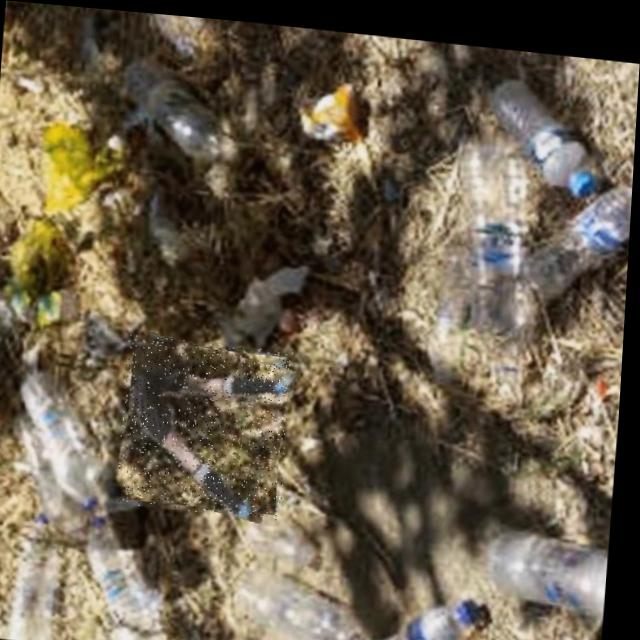Person in Rubble: (121, 330, 297, 514)
